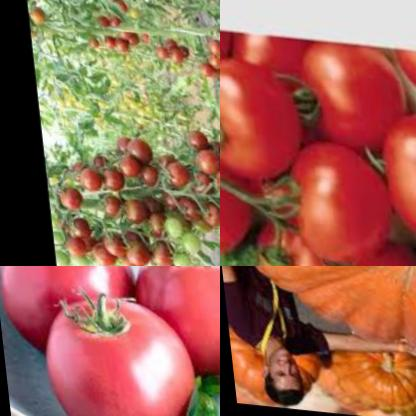pumpkin: (220, 266, 416, 375), (319, 338, 416, 416), (223, 336, 260, 400)
tomato: (31, 284, 194, 416), (279, 23, 405, 154), (270, 130, 387, 263), (0, 266, 132, 353), (123, 266, 220, 373), (45, 183, 168, 266), (220, 52, 296, 182), (366, 95, 416, 234), (52, 126, 152, 195), (224, 12, 310, 92), (151, 121, 220, 196), (309, 225, 416, 266), (238, 207, 311, 266), (158, 183, 220, 248), (220, 130, 248, 261), (83, 11, 144, 50), (154, 210, 196, 266), (384, 34, 416, 95), (192, 29, 220, 78), (152, 32, 189, 56), (90, 0, 131, 16)
